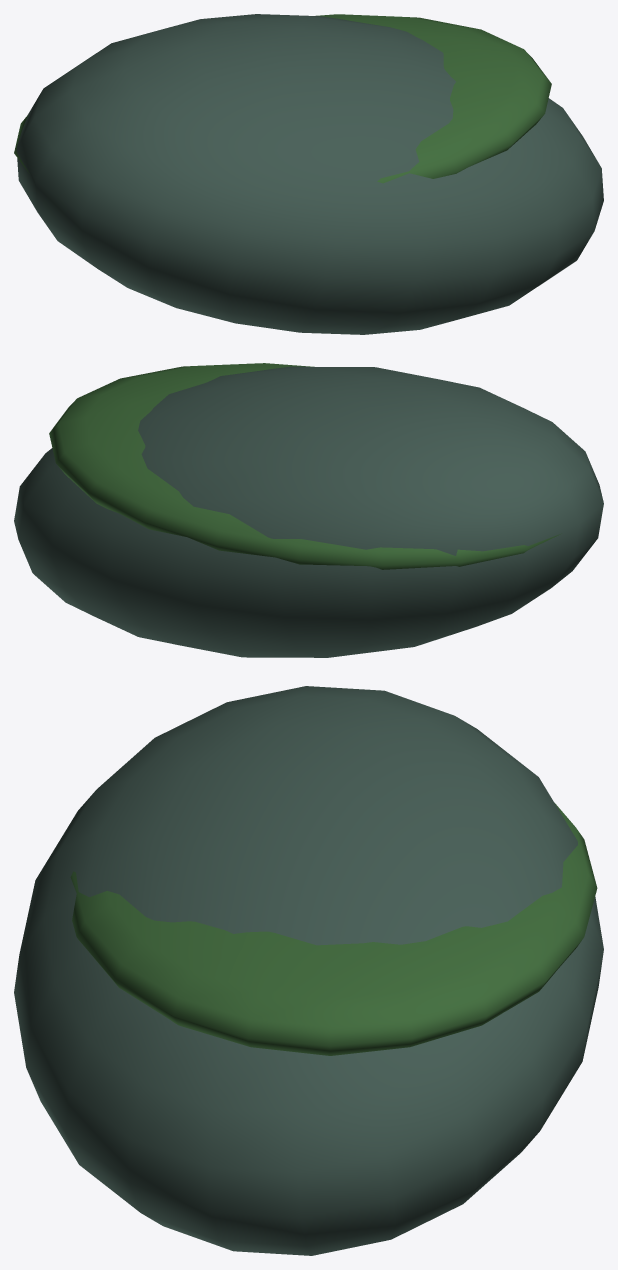
File: moss_rock.glb
The picture shows the model from 3 angles, top to bottom: view 1: azimuth 30°, elevation 25°; view 2: azimuth 150°, elevation 25°; view 3: azimuth 270°, elevation 25°; orthographic projection. The views are drawn at different scales.
Visible parts, largest first — view 1: moss_rock; view 2: moss_rock; view 3: moss_rock.
Part boxes in pixels (x1,y1,x2,y2): moss_rock: (14,14,603,334); moss_rock: (14,363,603,657); moss_rock: (14,686,603,1255).
Bounding box in the file's own units: 0.5691 × 0.2715 × 0.4126.
